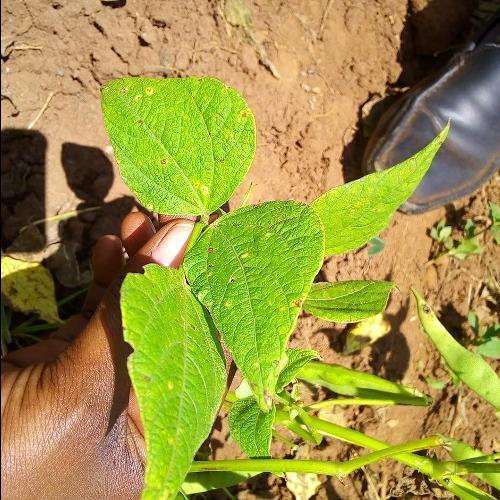hawar: (103, 244, 177, 412), (182, 216, 286, 319)
